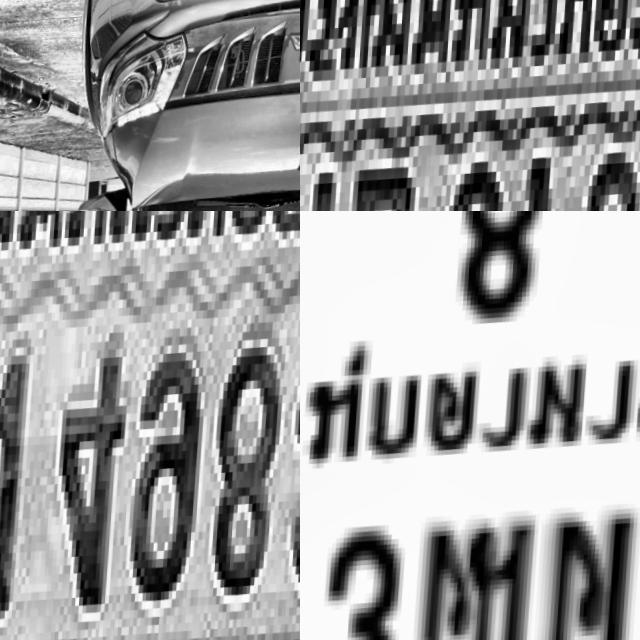license-plate: (300, 211, 640, 640), (0, 211, 300, 640), (300, 0, 640, 211)
